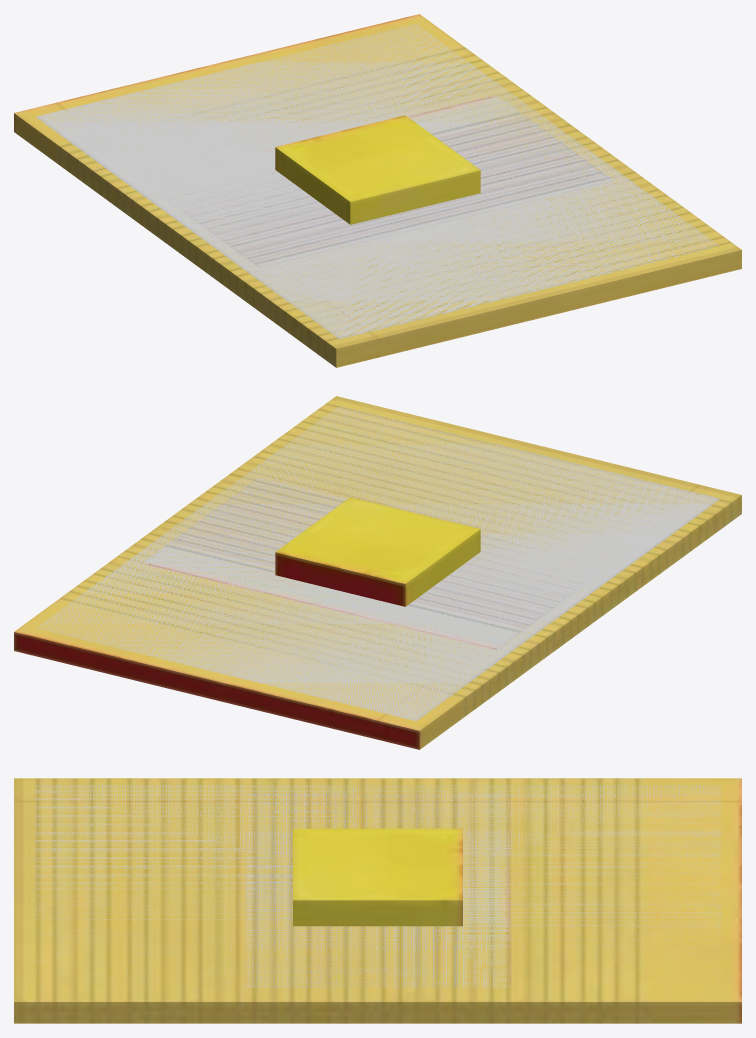
Rendered from ph_notepads.glb.
3 views of the same model, one above another, from view 1: azimuth 30°, elevation 25°; view 2: azimuth 150°, elevation 25°; view 3: azimuth 270°, elevation 25° (orthographic). The views are drawn at different scales.
Parts seen in each view (by area): view 1: piece_3, piece_8, piece_5, piece_7; view 2: piece_8, piece_3, piece_5, piece_7; view 3: piece_8, piece_3, piece_5, piece_7.
Boxes of the visible parts, x1,y1,x2,y2 form: piece_3: (36, 24, 719, 339); piece_8: (14, 14, 741, 367); piece_5: (151, 95, 613, 267); piece_7: (275, 115, 480, 224); piece_8: (14, 396, 741, 749); piece_3: (36, 406, 720, 721); piece_5: (142, 477, 610, 649); piece_7: (275, 497, 480, 606); piece_8: (14, 778, 741, 1023); piece_3: (34, 785, 721, 995); piece_5: (245, 792, 510, 987); piece_7: (293, 828, 462, 926).
Bounding box in the file's own units: 0.2233 × 0.022 × 0.3073.
1 material, 1 textured.
